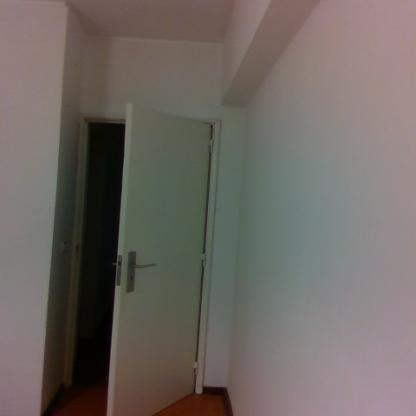semi: (82, 104, 209, 416)
